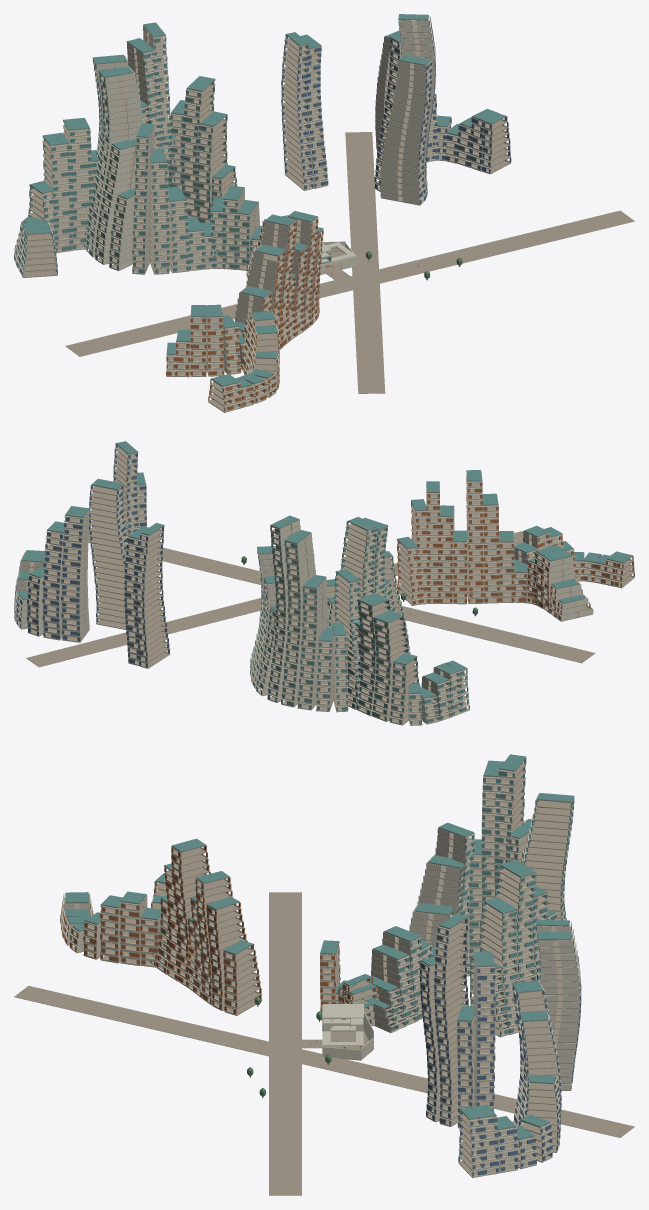
The picture shows the model from 3 angles, top to bottom: view 1: azimuth 30°, elevation 25°; view 2: azimuth 150°, elevation 25°; view 3: azimuth 270°, elevation 25°; orthographic projection. The views are drawn at different scales.
Visible parts, largest first — view 1: LIVING_ACTUAL_WINDOW_WALLS, CORE_MAKING_FLOOR, LIVING_DEEP_OCCUPIED_FLOORS, RESEARCH_ACTUAL_WINDOW_WALLS, MAKER_ACTUAL_WINDOW_WALLS, LIVING_OCCUPIED_FACADE_PANELS, RESEARCH_DEEP_OCCUPIED_FLOORS, LIVING_COURT_BRANCH_DEEP_OCCUPIED_FLOORS, MAKER_DEEP_OCCUPIED_FLOORS, LIVING_COURT_BRANCH_ACTUAL_WINDOW_WALLS, LIVING_COURT_ROOFS, MAKER_OCCUPIED_FACADE_PANELS (+13 smaller); view 2: LIVING_ACTUAL_WINDOW_WALLS, RESEARCH_DEEP_OCCUPIED_FLOORS, LIVING_DEEP_OCCUPIED_FLOORS, MAKER_ACTUAL_WINDOW_WALLS, MAKER_DEEP_OCCUPIED_FLOORS, CORE_MAKING_FLOOR, LIVING_OCCUPIED_FACADE_PANELS, RESEARCH_COURT_BRANCH_ACTUAL_WINDOW_WALLS, LIVING_COURT_BRANCH_ACTUAL_WINDOW_WALLS, LIVING_COURT_BRANCH_DEEP_OCCUPIED_FLOORS, MAKER_OCCUPIED_FACADE_PANELS, RESEARCH_ACTUAL_WINDOW_WALLS (+13 smaller); view 3: CORE_MAKING_FLOOR, LIVING_DEEP_OCCUPIED_FLOORS, LIVING_ACTUAL_WINDOW_WALLS, RESEARCH_ACTUAL_WINDOW_WALLS, RESEARCH_DEEP_OCCUPIED_FLOORS, MAKER_DEEP_OCCUPIED_FLOORS, RESEARCH_COURT_BRANCH_DEEP_OCCUPIED_FLOORS, LIVING_OCCUPIED_FACADE_PANELS, MAKER_ACTUAL_WINDOW_WALLS, MAKER_OCCUPIED_FACADE_PANELS, LIVING_COURT_ROOFS, RESEARCH_OCCUPIED_FACADE_PANELS (+9 smaller).
Boxes of the visible parts, x1,y1,x2,y2 form: LIVING_ACTUAL_WINDOW_WALLS: (83, 25, 260, 274); CORE_MAKING_FLOOR: (65, 132, 634, 393); LIVING_DEEP_OCCUPIED_FLOORS: (87, 25, 259, 274); RESEARCH_ACTUAL_WINDOW_WALLS: (281, 16, 435, 204); MAKER_ACTUAL_WINDOW_WALLS: (166, 216, 323, 376); LIVING_OCCUPIED_FACADE_PANELS: (84, 37, 252, 273); RESEARCH_DEEP_OCCUPIED_FLOORS: (281, 16, 434, 205); LIVING_COURT_BRANCH_DEEP_OCCUPIED_FLOORS: (15, 120, 103, 277); MAKER_DEEP_OCCUPIED_FLOORS: (166, 216, 322, 377); LIVING_COURT_BRANCH_ACTUAL_WINDOW_WALLS: (14, 121, 102, 277); LIVING_COURT_ROOFS: (92, 22, 263, 239); MAKER_OCCUPIED_FACADE_PANELS: (166, 219, 323, 375); LIVING_ACTUAL_WINDOW_WALLS: (250, 519, 410, 711); RESEARCH_DEEP_OCCUPIED_FLOORS: (89, 444, 169, 668); LIVING_DEEP_OCCUPIED_FLOORS: (252, 519, 408, 712); MAKER_ACTUAL_WINDOW_WALLS: (344, 472, 593, 621); MAKER_DEEP_OCCUPIED_FLOORS: (345, 476, 592, 621); CORE_MAKING_FLOOR: (26, 530, 595, 667); LIVING_OCCUPIED_FACADE_PANELS: (250, 522, 410, 710); RESEARCH_COURT_BRANCH_ACTUAL_WINDOW_WALLS: (14, 509, 89, 642); LIVING_COURT_BRANCH_ACTUAL_WINDOW_WALLS: (334, 596, 469, 725); LIVING_COURT_BRANCH_DEEP_OCCUPIED_FLOORS: (347, 600, 469, 725); MAKER_OCCUPIED_FACADE_PANELS: (397, 478, 593, 619); RESEARCH_ACTUAL_WINDOW_WALLS: (89, 443, 170, 668); CORE_MAKING_FLOOR: (14, 892, 634, 1195); LIVING_DEEP_OCCUPIED_FLOORS: (371, 757, 574, 1037); LIVING_ACTUAL_WINDOW_WALLS: (366, 758, 574, 1036); RESEARCH_ACTUAL_WINDOW_WALLS: (420, 918, 581, 1127); RESEARCH_DEEP_OCCUPIED_FLOORS: (420, 917, 580, 1128); MAKER_DEEP_OCCUPIED_FLOORS: (152, 845, 377, 1025); RESEARCH_COURT_BRANCH_DEEP_OCCUPIED_FLOORS: (458, 984, 560, 1177); LIVING_OCCUPIED_FACADE_PANELS: (372, 759, 574, 1035); MAKER_ACTUAL_WINDOW_WALLS: (149, 845, 378, 1022); MAKER_OCCUPIED_FACADE_PANELS: (150, 846, 378, 1018); LIVING_COURT_ROOFS: (362, 754, 573, 1008); RESEARCH_OCCUPIED_FACADE_PANELS: (420, 919, 581, 1126).
Bounding box in the file's own units: 570 × 181 × 494.
